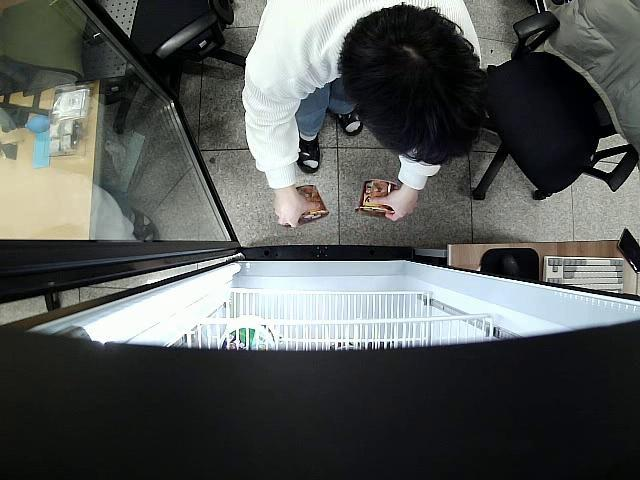05_nuguri_L: (355, 178, 401, 220), (294, 184, 329, 224)
